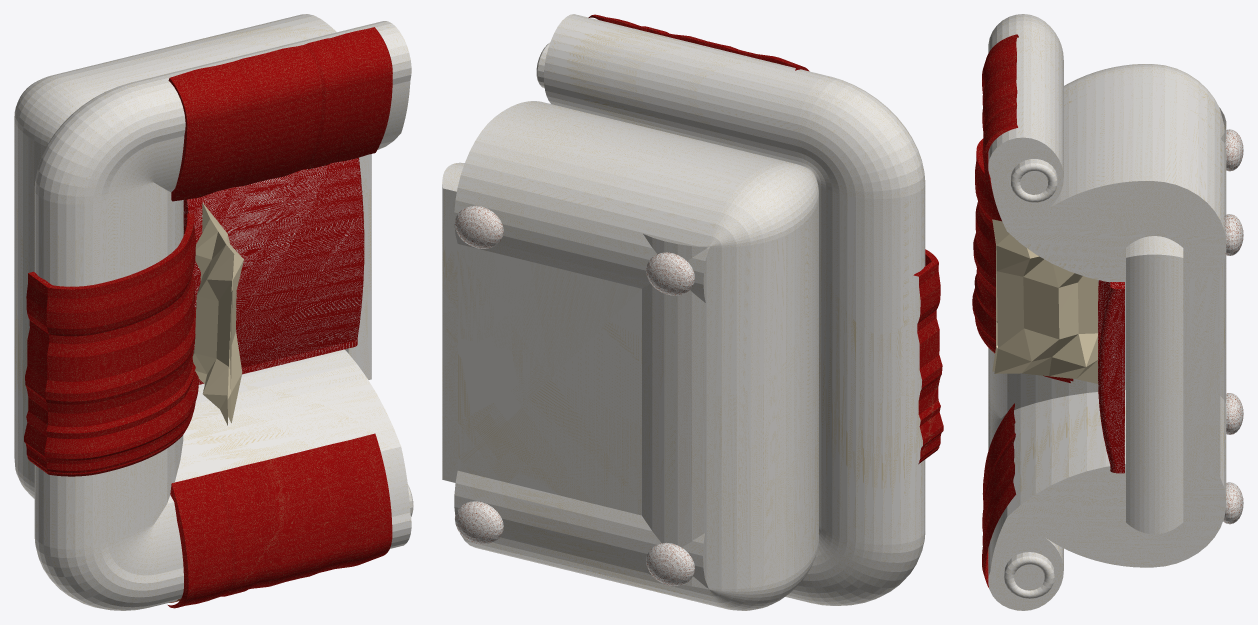
3 renders of one model, left to right at view 1: azimuth 30°, elevation 25°; view 2: azimuth 150°, elevation 25°; view 3: azimuth 270°, elevation 25°, orthographic. The views are drawn at different scales.
Parts seen in each view (by area): view 1: chair; view 2: chair; view 3: chair.
Boxes of the visible parts, x1,y1,x2,y2 form: chair: (14, 14, 413, 610); chair: (442, 14, 943, 610); chair: (972, 14, 1243, 610).
Bounding box in the file's own units: 127 × 159 × 80.42.
